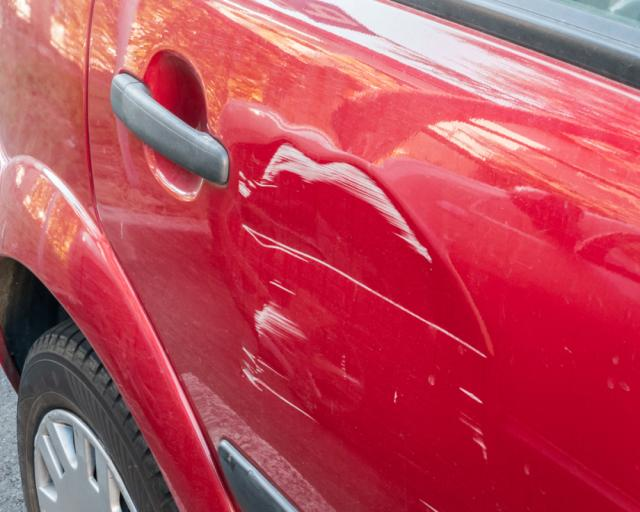dent: (209, 138, 490, 480)
scratch: (241, 335, 325, 423)
